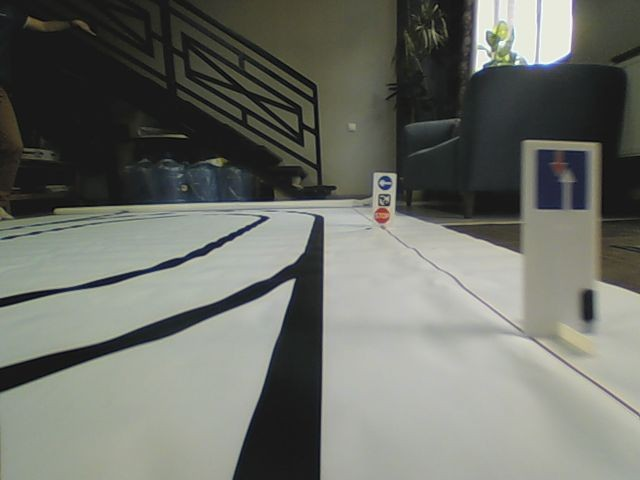Stop: (373, 207, 391, 224)
priority_movement: (533, 148, 592, 213)
